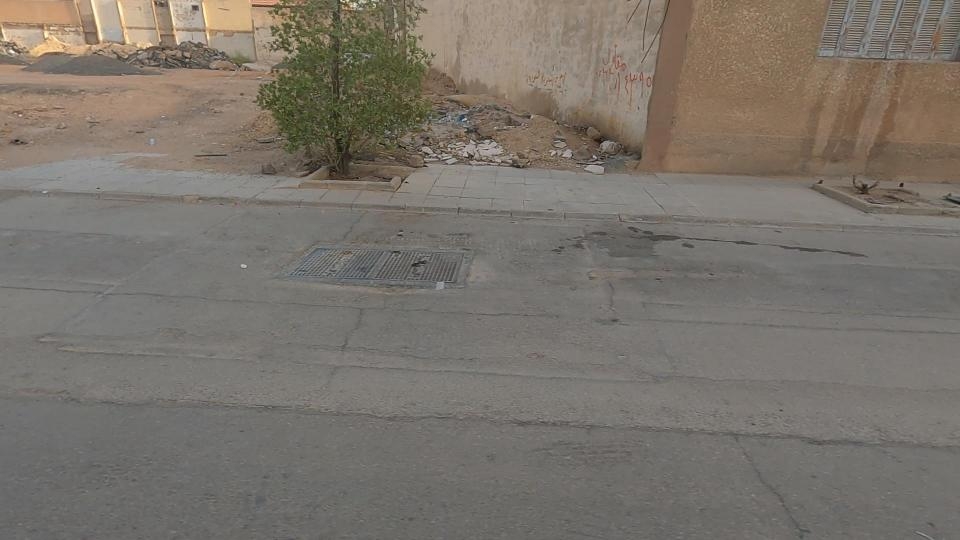GARBAGE: (306, 56, 622, 210)
SAND_ON_ROAD: (3, 26, 203, 113)
